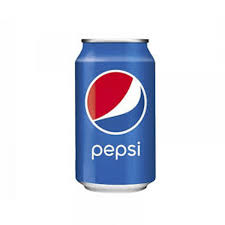pepsi_can: (73, 36, 158, 194)
